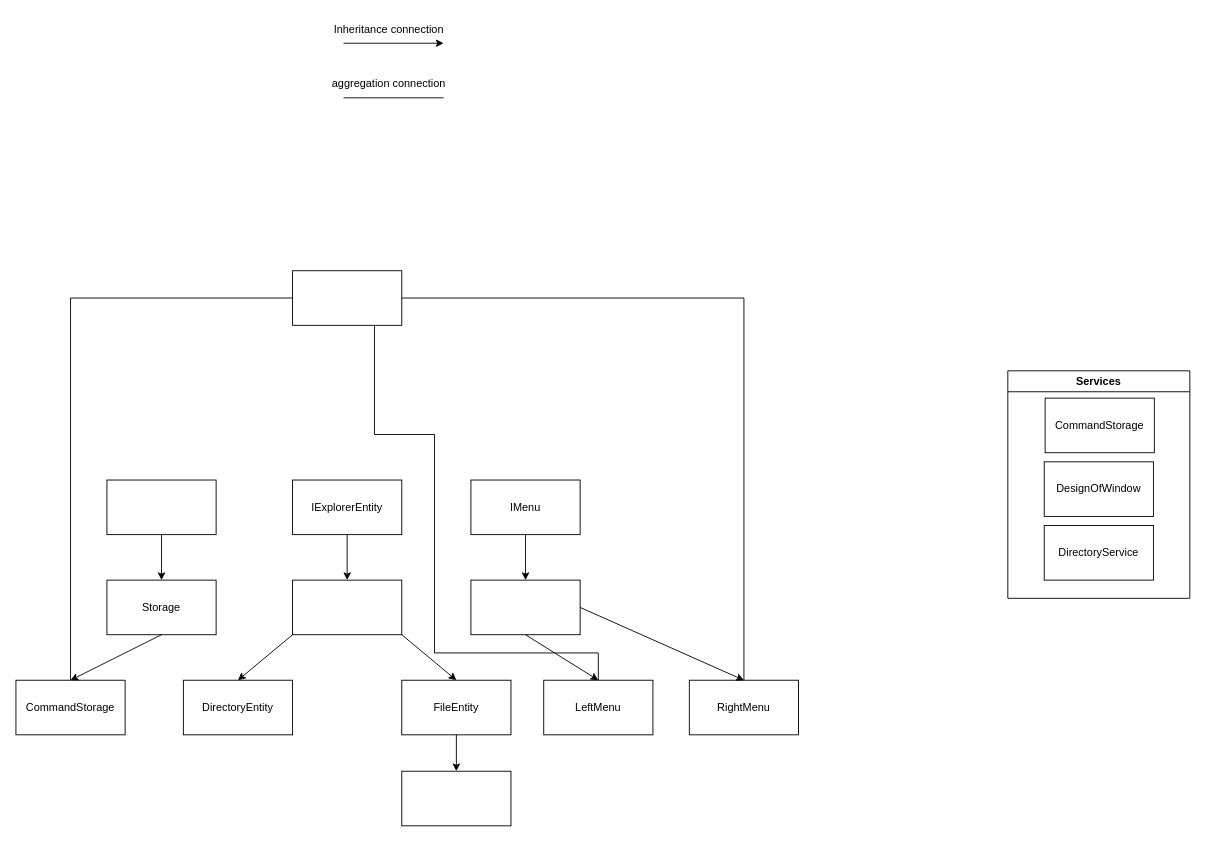
Some shapes in this 1206 by 842 pixel diagram are drawn without their labels. The centre of each missing label's shape, as x and y in pixels:
ExplorerEntity: the point at 347,607
IStorage<Key>: the point at 161,507
MainMenu: the point at 347,297
Menu: the point at 525,607
TextFileEntity: the point at 456,798
